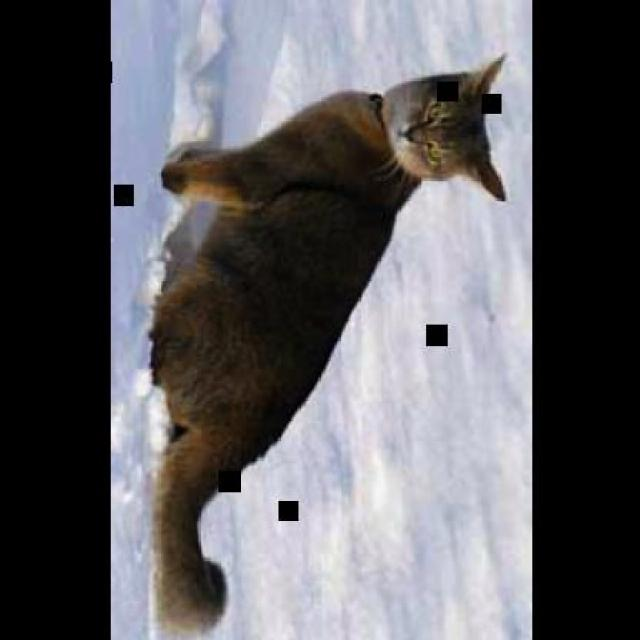unauthorized: (146, 51, 508, 634)
